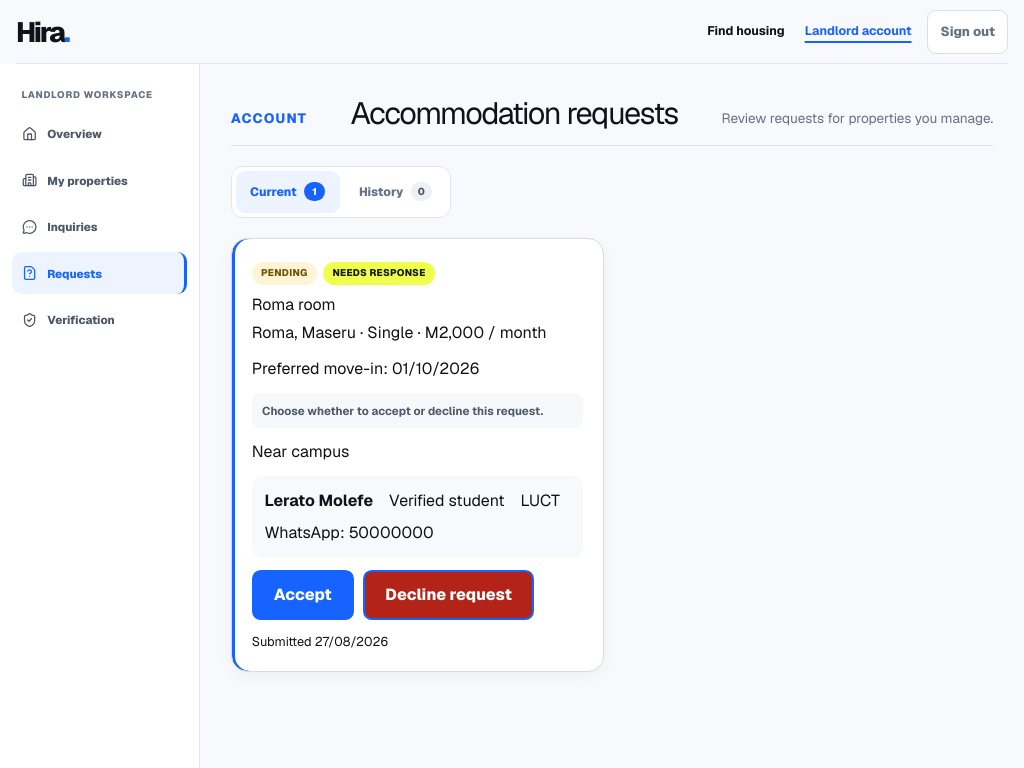
Test case: RequestList › lets a LANDLORD property owner accept a PENDING request with safe tenant context
The width and height of the screenshot is (1024, 768).
expect the text "Verified student" is shown: met, box [389,489,505,513]
expect the text "Needs response" is shown: met, box [323,262,435,285]
Step 1. Click the button "Accept" → point(303, 595), box [252,570,354,620]
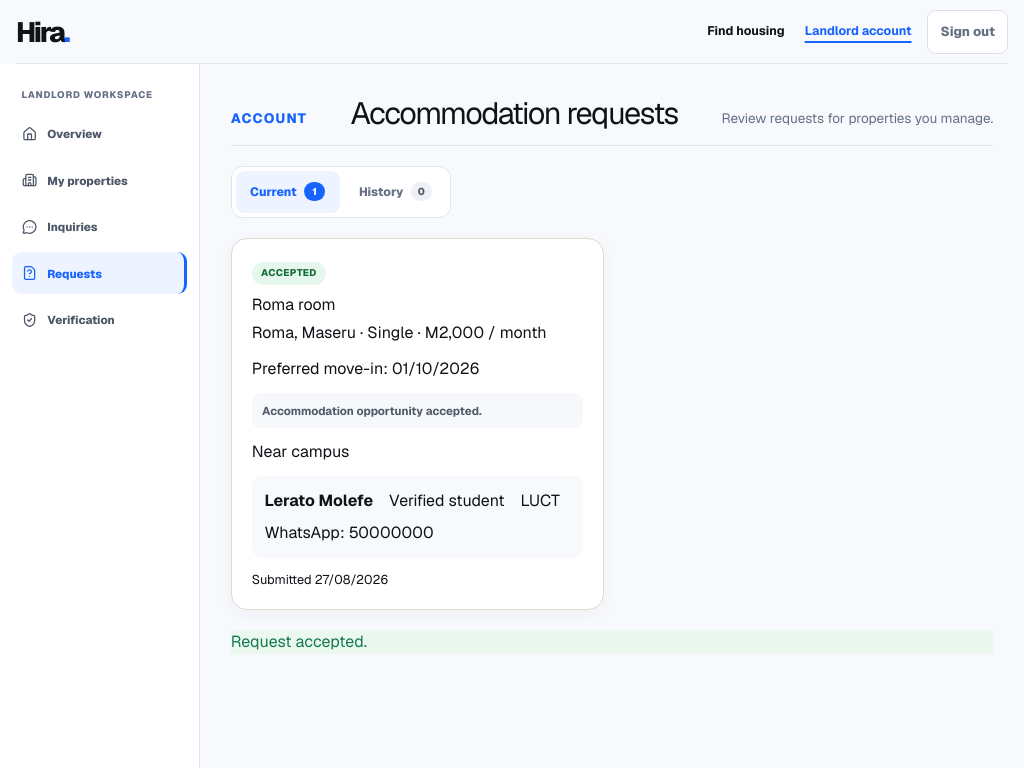
expect the text "Request accepted." is shown: met, box [231,630,993,654]
expect the text "ACCEPTED" is shown: met, box [252,262,326,285]
expect the button "Decline request" is gone: met
